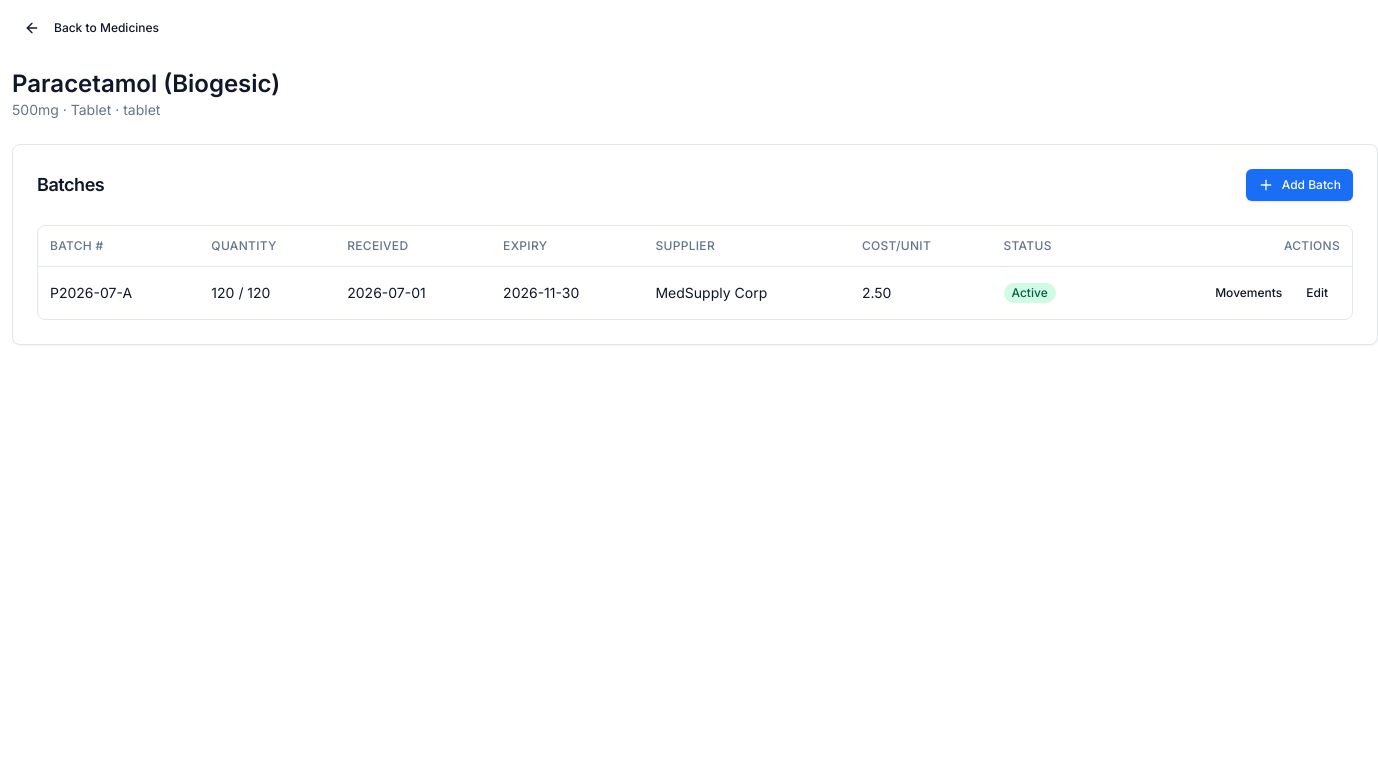
Scenario: MedicineDetailPage › renders movement history for a selected batch
Expected: the text "P2026-07-A" is shown, [38,266,199,318]
Click the button "Movements" at [1249, 292], box [1203,276,1294,308]
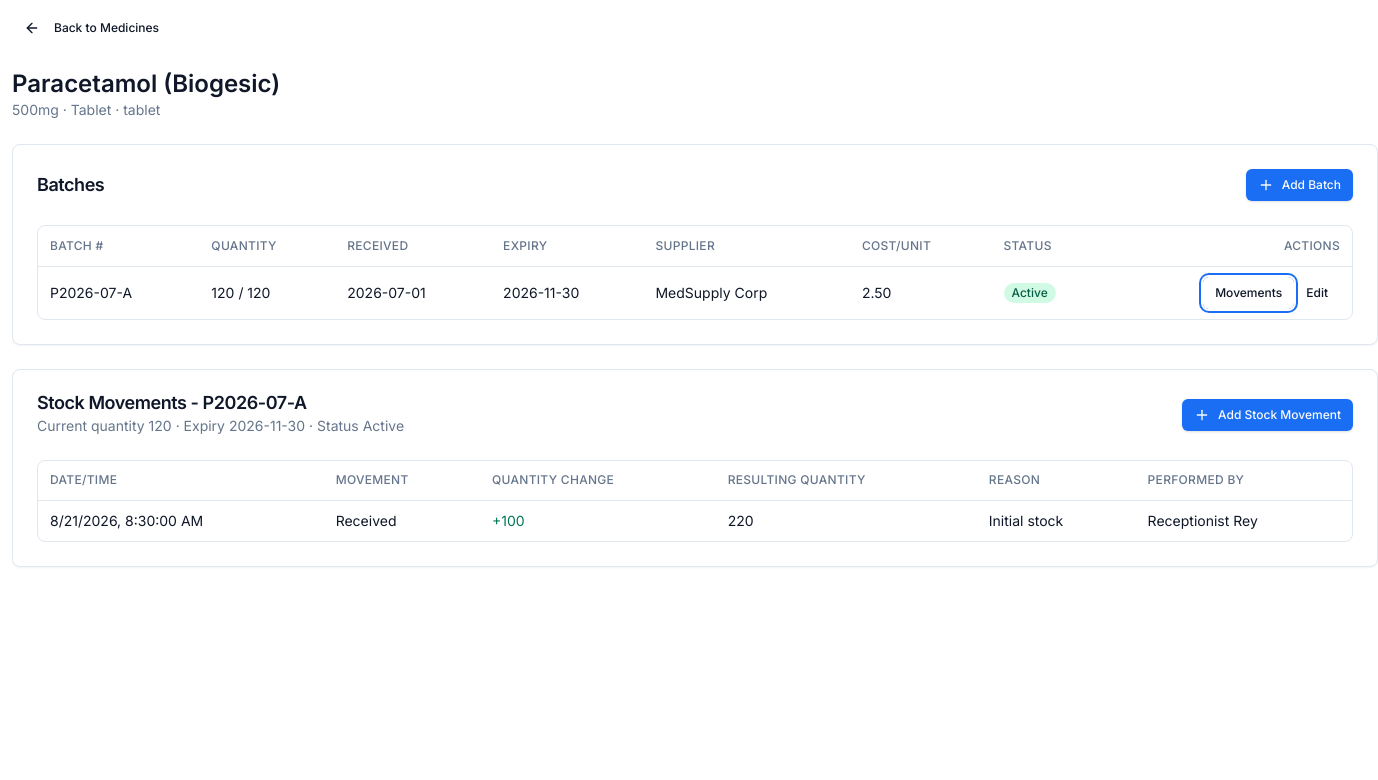
Now the heading "Stock Movements - P2026-07-A" is shown, box [37,392,307,412]
Now the text "+100" is shown, box [480,500,716,541]
Now the text "220" is shown, box [716,500,977,541]
